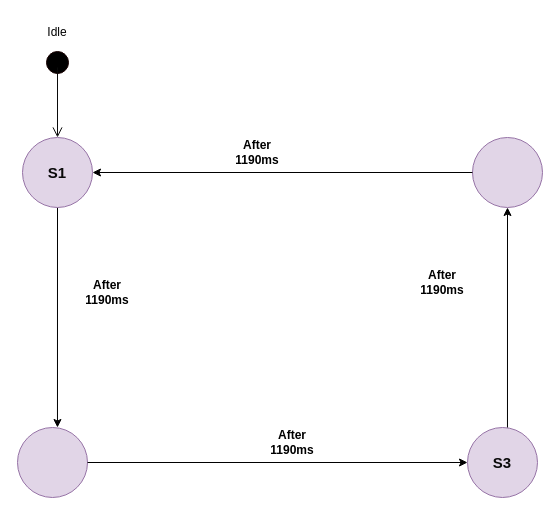
The diagram is 560 pixels wide and 515 high, and some of its shapes have lost their labels. The shapes that lost their labels are listed below. From the top down, each one's box as (x1, y1, x2, y2) in pixels, then its label:
(472, 136, 542, 208): S4
(16, 426, 88, 498): S2
